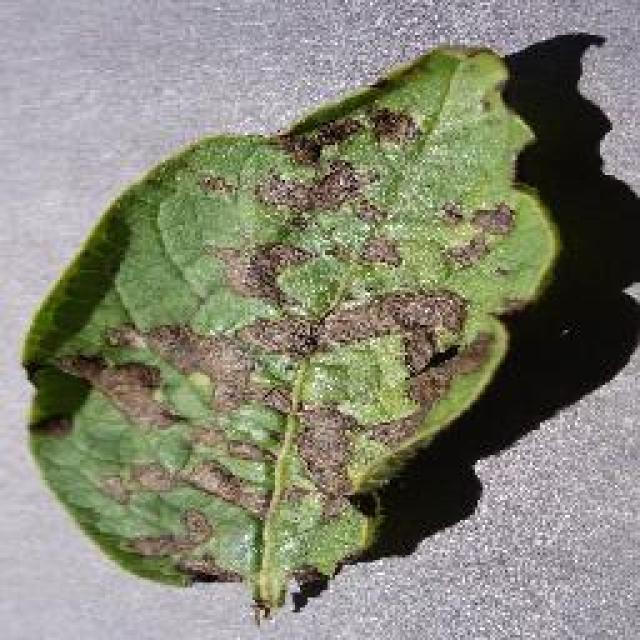Potato___Early_blight: (5, 22, 570, 638)
